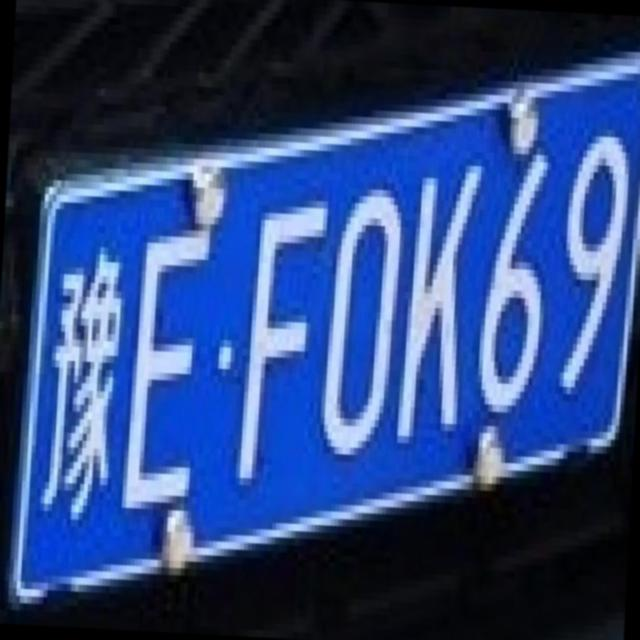0: (304, 158, 408, 457)
6: (464, 116, 562, 415)
9: (536, 105, 636, 398)
E: (107, 205, 215, 504)
F: (216, 175, 334, 482)
K: (382, 126, 487, 440)
